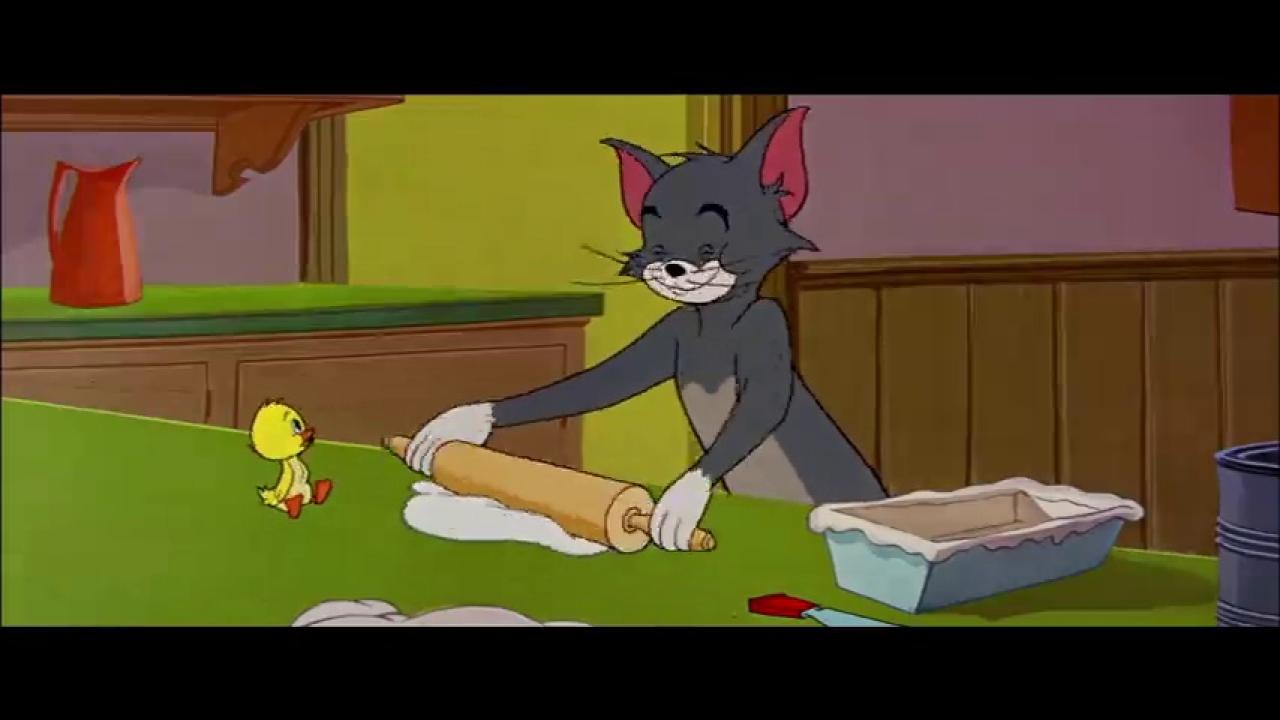Tom: (406, 101, 889, 553)
